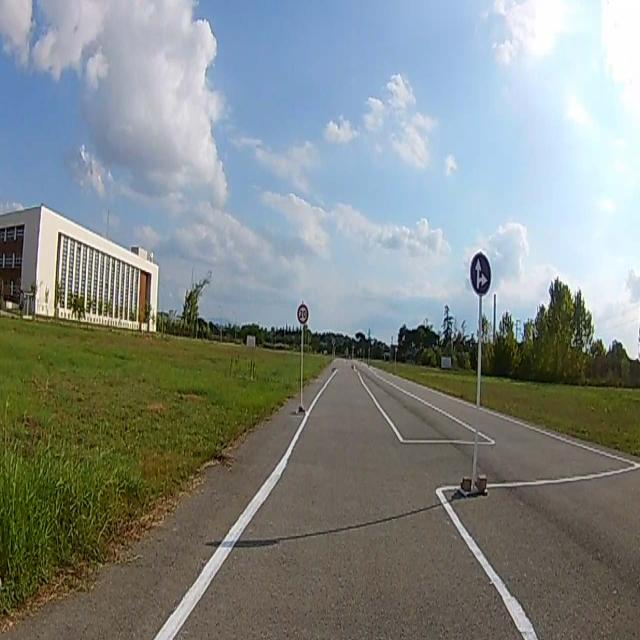20: (298, 304, 308, 324)
ilerisag: (471, 254, 492, 294)
